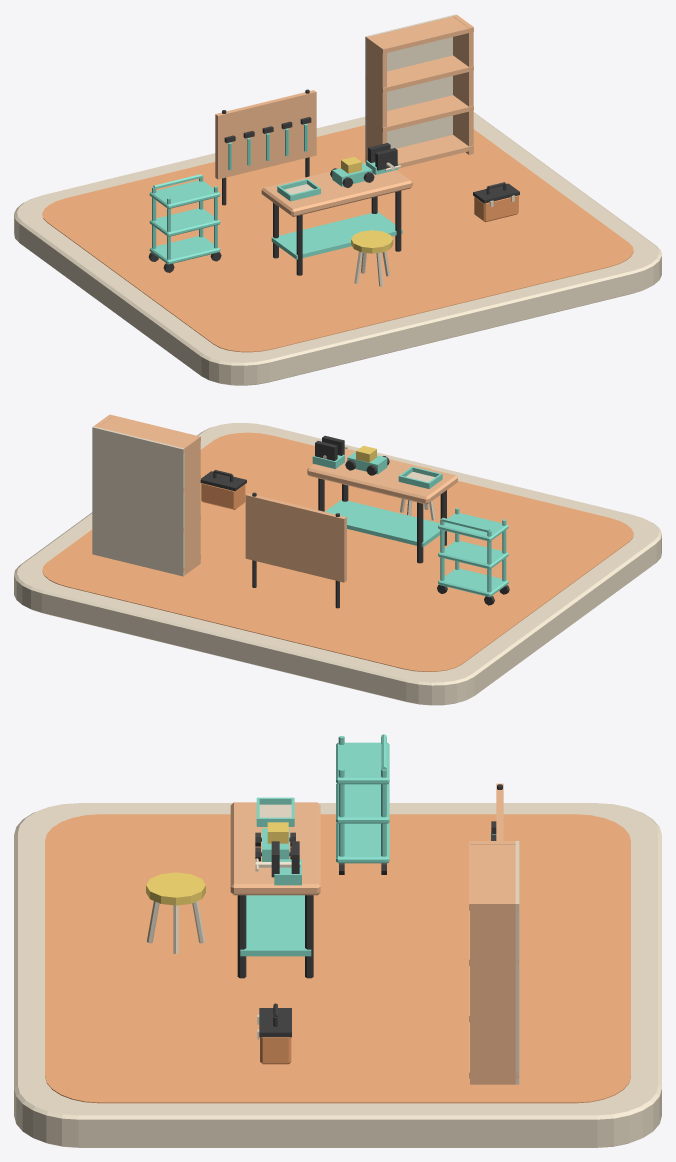
3 views of the same model, one above another, from view 1: azimuth 30°, elevation 25°; view 2: azimuth 150°, elevation 25°; view 3: azimuth 270°, elevation 25° (orthographic). The views are drawn at different scales.
Parts seen in each view (by area): view 1: COM-02 Floor Surface, COM-01 Rounded Base Direct, Peg board, Back, Worktop, Lower shelf, Side, Side.001, Shelf.003, Shelf.002, Shelf.001, Shelf (+5 smaller); view 2: COM-02 Floor Surface, COM-01 Rounded Base Direct, Back, Peg board, Worktop, Lower shelf, Side, Shelf.003, Tray.001, Tray, Tray.002, Box (+1 smaller); view 3: COM-02 Floor Surface, COM-01 Rounded Base Direct, Side.001, Worktop, Lower shelf, Shelf.003, Tray.002, Tray, Tray.001, Seat, Back, Lid (+3 smaller).
Boxes of the visible parts, x1=… form: COM-02 Floor Surface: x1=42, y1=125, x2=633, y2=352; COM-01 Rounded Base Direct: x1=14, y1=112, x2=661, y2=385; Peg board: x1=215, y1=90, x2=316, y2=179; Back: x1=365, y1=14, x2=456, y2=162; Worktop: x1=261, y1=162, x2=412, y2=216; Lower shelf: x1=271, y1=212, x2=402, y2=259; Side: x1=366, y1=36, x2=386, y2=156; Side.001: x1=452, y1=15, x2=473, y2=154; Shelf.003: x1=365, y1=16, x2=473, y2=53; Shelf.002: x1=365, y1=55, x2=473, y2=92; Shelf.001: x1=365, y1=95, x2=473, y2=132; Shelf: x1=365, y1=135, x2=473, y2=168; COM-02 Floor Surface: x1=42, y1=432, x2=633, y2=671; COM-01 Rounded Base Direct: x1=14, y1=423, x2=661, y2=705; Back: x1=92, y1=426, x2=184, y2=576; Peg board: x1=245, y1=493, x2=346, y2=582; Worktop: x1=307, y1=448, x2=457, y2=504; Lower shelf: x1=325, y1=499, x2=445, y2=547; Side: x1=180, y1=436, x2=200, y2=574; Shelf.003: x1=98, y1=414, x2=200, y2=453; Tray.001: x1=438, y1=540, x2=508, y2=569; Tray: x1=438, y1=568, x2=508, y2=597; Tray.002: x1=438, y1=513, x2=508, y2=541; Box: x1=201, y1=483, x2=245, y2=509; COM-02 Floor Surface: x1=45, y1=814, x2=630, y2=1103; COM-01 Rounded Base Direct: x1=14, y1=803, x2=661, y2=1147; Side.001: x1=470, y1=901, x2=515, y2=1084; Worktop: x1=230, y1=802, x2=320, y2=895; Lower shelf: x1=240, y1=895, x2=311, y2=956; Shelf.003: x1=469, y1=841, x2=518, y2=910; Tray.002: x1=336, y1=742, x2=389, y2=784; Tray: x1=336, y1=823, x2=389, y2=863; Tray.001: x1=336, y1=783, x2=389, y2=823; Seat: x1=146, y1=872, x2=205, y2=905; Back: x1=515, y1=841, x2=519, y2=1084; Lid: x1=259, y1=1008, x2=291, y2=1037.
Bounding box in the file's own units: 6 × 1.9 × 5.2.
1 material, 1 textured.
